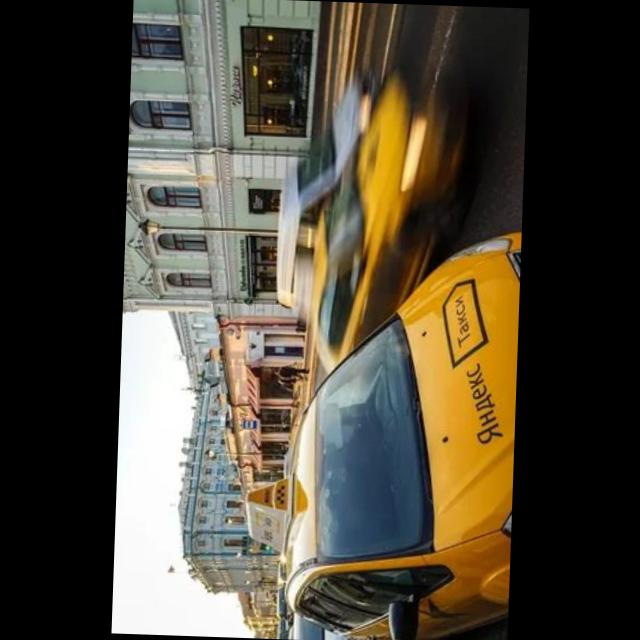taxi: (240, 222, 522, 640)
